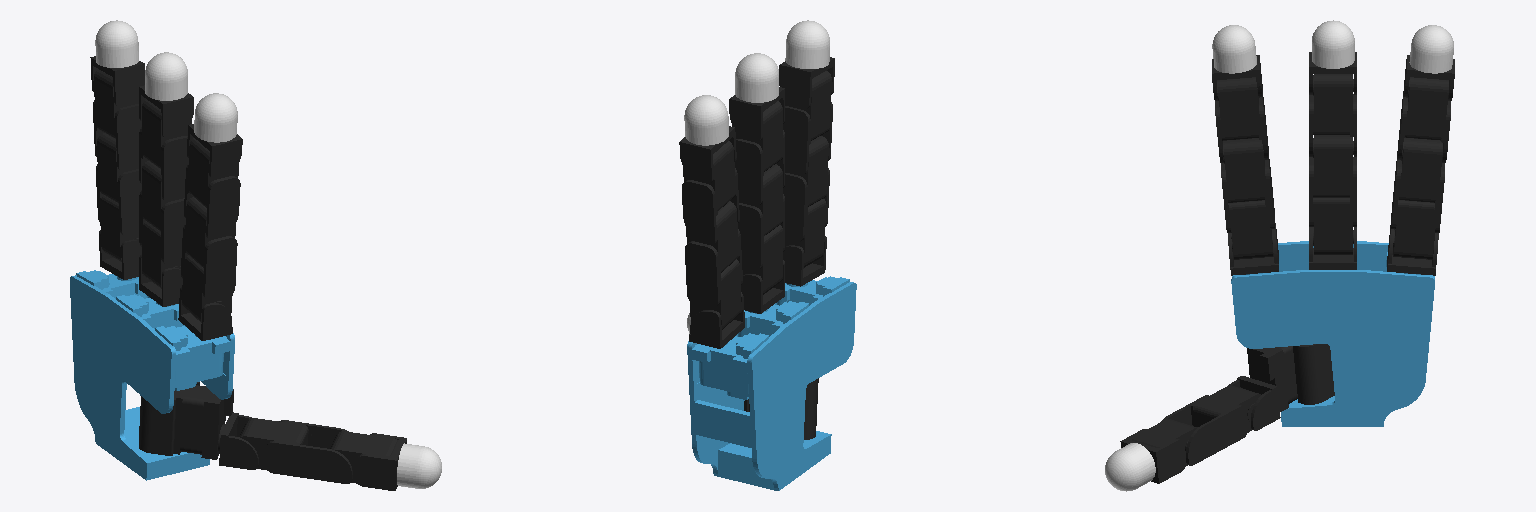
robot.urdf — allegro_hand_left:
<?xml version='1.0' encoding='utf-8'?>
<robot name="allegro_hand_left">

	<!-- Base link -->
	<link name="hand_root">
		<origin xyz="0 0 0" />
		<inertial>
			<origin xyz="0 0 0" />
			<mass value="0.1" />
			<inertia ixx="0.01" ixy="0.0" ixz="0.0" iyy="0.01" iyz="0.0" izz="0.01" />
		</inertial>
	</link>
	<joint name="root_to_base" type="fixed">
		<parent link="hand_root" />
		<child link="palm_link" />
		<origin xyz="0 0 0.095" />
	</joint>
	<!-- PALM -->
	<link name="palm_link">
		<visual>
			<origin rpy="-1.57079632679 0 0" />
			<geometry>
				<mesh filename="meshes/base_link_left.obj" />
			</geometry>
		</visual>

		<!-- <collision>
			<origin rpy="-1.57079632679 0 0" />
			<geometry>
				<mesh filename="meshes/base_link_left.obj"/>
			</geometry>
		</collision> -->

		<!-- <collision>
			<origin rpy="0 0 0" xyz="-0.009300 0 -0.0475" />
			<geometry>
				<box size="0.0407 0.1125 0.093" />
			</geometry>
		</collision> -->

		<collision>
			<origin rpy="0 0 0" xyz="-0.009300 0.015 -0.0475" />
			<geometry>
				<box size="0.0407 0.0785 0.093" />
			</geometry>
		</collision>

		<inertial>
			<origin rpy="0 0 0" xyz="0 0 0" />
			<mass value="0.4154" />
			<inertia ixx="0.00208916" ixy="-3.63457e-06" ixz="0.000223277" iyy="0.00182848" iyz="-1.75634e-05" izz="0.000482459" />
		</inertial>
	</link>
	<!-- Ring finger -->
	<link name="ring_0">
		<visual>
			<geometry>
				<mesh filename="meshes/link_0.0.obj" />
			</geometry>
			<material name="black" />
		</visual>
		<collision>
			<geometry>
				<!-- <box size="0.0196 0.0275 0.0164"/> -->
				<mesh filename="meshes/link_0.0.obj" />
			</geometry>
			<!-- <origin rpy="0 0 0" xyz="0 0 0.0082" /> -->
		</collision>
		<inertial>
			<mass value="0.0119" />
			<origin rpy="0 0 0" xyz="0 0 0" />
			<!-- <inertia ixx="1.95377e-06" ixy="3.03372e-09" ixz="8.92323e-08" iyy="1.17908e-06" iyz="-3.7069e-08" izz="1.49673e-06" /> -->
			<inertia ixx="1.95377e-03" ixy="3.03372e-06" ixz="8.92323e-05" iyy="1.17908e-03" iyz="-3.7069e-05" izz="1.49673e-03" />
		</inertial>
	</link>
	<joint name="joint_ring_0" type="revolute">
		<axis xyz="0 0 1" />
		<limit effort="0.7" lower="-0.47" upper="0.47" velocity="7" />
		<parent link="palm_link" />
		<child link="ring_0" />
		<origin rpy="-0.08726646255 0 0" xyz="0 0.0435 -0.001542" />
		<!-- <dynamics damping="1.5e-2" friction="10"/> -->
	</joint>
	<link name="ring_1">
		<visual>
			<geometry>
				<mesh filename="meshes/link_1.0.obj" />
			</geometry>
			<material name="black" />
		</visual>
		<collision>
			<geometry>
				<!-- <box size="0.0196 0.0275 0.054"/> -->
				<mesh filename="meshes/link_1.0.obj" />
			</geometry>
			<!-- <origin rpy="0 0 0" xyz="0 0 0.027" /> -->
		</collision>
		<inertial>
			<mass value="0.065" />
			<origin rpy="0 0 0" xyz="0 0 0" />
			<!-- <inertia ixx="7.19218e-05" ixy="0" ixz="0" iyy="7.4377e-05" iyz="7.32186e-07" izz="5.40622e-06" /> -->
			<inertia ixx="7.19218e-02" ixy="0" ixz="0" iyy="7.4377e-02" iyz="7.32186e-04" izz="5.40622e-03" />
		</inertial>
	</link>
	<joint name="joint_ring_1" type="revolute">
		<limit effort="0.7" lower="-0.196" upper="1.61" velocity="7" />
		<axis xyz="0 1 0" />
		<parent link="ring_0" />
		<child link="ring_1" />
		<origin xyz="0 0 0.0164" />
		<!-- <dynamics damping="1.5e-2" friction="5"/> -->
	</joint>
	<link name="ring_2">
		<visual>
			<geometry>
				<mesh filename="meshes/link_2.0.obj" />
			</geometry>
			<material name="black" />
		</visual>
		<collision>
			<geometry>
				<mesh filename="meshes/link_2.0.obj" />
				<!-- <box size="0.0196 0.0275 0.0384"/> -->
			</geometry>
			<!-- <origin rpy="0 0 0" xyz="0 0 0.0192" /> -->
		</collision>
		<inertial>
			<mass value="0.0355" />
			<origin rpy="0 0 0" xyz="0 0 0" />
			<!-- <inertia ixx="3.16925e-05" ixy="1.07094e-09" ixz="-4.91273e-09" iyy="3.10516e-05" iyz="3.87549e-08" izz="3.20319e-06" /> -->
			<inertia ixx="3.16925e-02" ixy="1.07094e-06" ixz="-4.91273e-06" iyy="3.10516e-02" iyz="3.87549e-05" izz="3.20319e-03" />
		</inertial>
	</link>
	<joint name="joint_ring_2" type="revolute">
		<axis xyz="0 1 0" />
		<limit effort="0.7" lower="-0.174" upper="1.709" velocity="7" />
		<parent link="ring_1" />
		<child link="ring_2" />
		<origin xyz="0 0 0.054" />
		<!-- <dynamics damping="1.5e-2" friction="10"/> -->
	</joint>
	<link name="ring_3">
		<visual>
			<geometry>
				<mesh filename="meshes/link_3.0.obj" />
			</geometry>
			<material name="black" />
		</visual>
		<collision>
			<geometry>
				<!-- <box size="0.0196 0.0275 0.0267"/> -->
				<mesh filename="meshes/link_3.0.obj" />
			</geometry>
			<!-- <origin rpy="0 0 0" xyz="0 0 0.01335" /> -->
		</collision>
		<inertial>
			<mass value="0.0096" />
			<origin rpy="0 0 0" xyz="0 0 0" />
			<!-- <inertia ixx="2.13975e-06" ixy="1.59554e-09" ixz="-7.47528e-09" iyy="1.52036e-06" iyz="-9.89336e-09" izz="1.20271e-06" /> -->
			<inertia ixx="2.13975e-03" ixy="1.59554e-06" ixz="-7.47528e-06" iyy="1.52036e-03" iyz="-9.89336e-06" izz="1.20271e-03" />
		</inertial>
	</link>
	<joint name="joint_ring_3" type="revolute">
		<axis xyz="0 1 0" />
		<limit effort="0.7" lower="-0.227" upper="1.618" velocity="7" />
		<parent link="ring_2" />
		<child link="ring_3" />
		<origin xyz="0 0 0.0384" />
		<!-- <dynamics damping="1.5e-2" friction="12"/> -->
	</joint>
	<link name="ring_tip">
		<visual>
			<geometry>
				<mesh filename="meshes/link_3.0_tip.obj" />
			</geometry>
			<material name="white">
				<color rgba=".9 .9 .9 1" />
			</material>
		</visual>
		<collision>
			<geometry>
				<sphere radius="0.012" />
			</geometry>
		</collision>
		<inertial>
			<mass value="0.0168" />
			<origin rpy="0 0 0" xyz="0 0 0" />
			<!-- <inertia ixx="1.19599e-05" ixy="0" ixz="0" iyy="1.19598e-05" iyz="0" izz="1.10345e-06" /> -->
			<inertia ixx="1.19599e-02" ixy="0" ixz="0" iyy="1.19598e-02" iyz="0" izz="1.10345e-03" />
		</inertial>
	</link>
	<joint name="joint_ring_tip" type="fixed">
		<parent link="ring_3" />
		<child link="ring_tip" />
		<origin rpy="0 0 0" xyz="0 0 0.0267" />
	</joint>

	<!-- Middle finger -->
	<link name="middle_0">
		<visual>
			<geometry>
				<mesh filename="meshes/link_0.0.obj" />
			</geometry>
			<material name="black" />
		</visual>
		<collision>
			<geometry>
				<!-- <box size="0.0196 0.0275 0.0164"/> -->
				<mesh filename="meshes/link_0.0.obj" />
			</geometry>
			<!-- <origin rpy="0 0 0" xyz="0 0 0.0082" /> -->
		</collision>
		<inertial>
			<mass value="0.0119" />
			<origin rpy="0 0 0" xyz="0 0 0" />
			<!-- <inertia ixx="1.95377e-06" ixy="3.03372e-09" ixz="8.92323e-08" iyy="1.17908e-06" iyz="-3.7069e-08" izz="1.49673e-06" /> -->
			<inertia ixx="1.95377e-03" ixy="3.03372e-06" ixz="8.92323e-05" iyy="1.17908e-03" iyz="-3.7069e-05" izz="1.49673e-03" />
		</inertial>
	</link>
	<joint name="joint_middle_0" type="revolute">
		<axis xyz="0 0 1" />
		<limit effort="0.7" lower="-0.47" upper="0.47" velocity="7" />
		<parent link="palm_link" />
		<child link="middle_0" />
		<origin rpy="0.0 0 0" xyz="0 0 0.0007" />
		<!-- <dynamics damping="1.5e-2" friction="10"/> -->
	</joint>
	<link name="middle_1">
		<visual>
			<geometry>
				<mesh filename="meshes/link_1.0.obj" />
			</geometry>
			<material name="black" />
		</visual>
		<collision>
			<geometry>
				<!-- <box size="0.0196 0.0275 0.054"/> -->
				<mesh filename="meshes/link_1.0.obj" />
			</geometry>
			<!-- <origin rpy="0 0 0" xyz="0 0 0.027" /> -->
		</collision>
		<inertial>
			<mass value="0.065" />
			<origin rpy="0 0 0" xyz="0 0 0" />
			<!-- <inertia ixx="7.19218e-05" ixy="0" ixz="0" iyy="7.4377e-05" iyz="7.32186e-07" izz="5.40622e-06" /> -->
			<inertia ixx="7.19218e-02" ixy="0" ixz="0" iyy="7.4377e-02" iyz="7.32186e-04" izz="5.40622e-03" />
		</inertial>
	</link>
	<joint name="joint_middle_1" type="revolute">
		<limit effort="0.7" lower="-0.196" upper="1.61" velocity="7" />
		<axis xyz="0 1 0" />
		<parent link="middle_0" />
		<child link="middle_1" />
		<origin xyz="0 0 0.0164" />
		<!-- <dynamics damping="1.5e-2" friction="5"/> -->
	</joint>
	<link name="middle_2">
		<visual>
			<geometry>
				<mesh filename="meshes/link_2.0.obj" />
			</geometry>
			<material name="black" />
		</visual>
		<collision>
			<geometry>
				<!-- <box size="0.0196 0.0275 0.0384"/> -->
				<mesh filename="meshes/link_2.0.obj" />
			</geometry>
			<!-- <origin rpy="0 0 0" xyz="0 0 0.0192" /> -->
		</collision>
		<inertial>
			<mass value="0.0355" />
			<origin rpy="0 0 0" xyz="0 0 0" />
			<!-- <inertia ixx="3.16925e-05" ixy="1.07094e-09" ixz="-4.91273e-09" iyy="3.10516e-05" iyz="3.87549e-08" izz="3.20319e-06" /> -->
			<inertia ixx="3.16925e-02" ixy="1.07094e-06" ixz="-4.91273e-06" iyy="3.10516e-02" iyz="3.87549e-05" izz="3.20319e-03" />
		</inertial>
	</link>
	<joint name="joint_middle_2" type="revolute">
		<axis xyz="0 1 0" />
		<limit effort="0.7" lower="-0.174" upper="1.709" velocity="7" />
		<parent link="middle_1" />
		<child link="middle_2" />
		<origin xyz="0 0 0.054" />
		<!-- <dynamics damping="1.5e-2" friction="10"/> -->
	</joint>
	<link name="middle_3">
		<visual>
			<geometry>
				<mesh filename="meshes/link_3.0.obj" />
			</geometry>
			<material name="black" />
		</visual>
		<collision>
			<geometry>
				<!-- <box size="0.0196 0.0275 0.0267"/> -->
				<mesh filename="meshes/link_3.0.obj" />
			</geometry>
			<!-- <origin rpy="0 0 0" xyz="0 0 0.01335" /> -->
		</collision>
		<inertial>
			<mass value="0.0096" />
			<origin rpy="0 0 0" xyz="0 0 0" />
			<!-- <inertia ixx="2.13975e-06" ixy="1.59554e-09" ixz="-7.47528e-09" iyy="1.52036e-06" iyz="-9.89336e-09" izz="1.20271e-06" /> -->
			<inertia ixx="2.13975e-03" ixy="1.59554e-06" ixz="-7.47528e-06" iyy="1.52036e-03" iyz="-9.89336e-06" izz="1.20271e-03" />
		</inertial>
	</link>
	<joint name="joint_middle_3" type="revolute">
		<axis xyz="0 1 0" />
		<limit effort="0.7" lower="-0.227" upper="1.618" velocity="7" />
		<parent link="middle_2" />
		<child link="middle_3" />
		<origin xyz="0 0 0.0384" />
		<!-- <dynamics damping="1.5e-2" friction="12"/> -->
	</joint>
	<link name="middle_tip">
		<visual>
			<geometry>
				<mesh filename="meshes/link_3.0_tip.obj" />
			</geometry>
			<material name="white">
				<color rgba=".9 .9 .9 1" />
			</material>
		</visual>
		<collision>
			<geometry>
				<sphere radius="0.012" />
			</geometry>
		</collision>
		<inertial>
			<mass value="0.0168" />
			<origin rpy="0 0 0" xyz="0 0 0" />
			<!-- <inertia ixx="1.19599e-05" ixy="0" ixz="0" iyy="1.19598e-05" iyz="0" izz="1.10345e-06" /> -->
			<inertia ixx="1.19599e-02" ixy="0" ixz="0" iyy="1.19598e-02" iyz="0" izz="1.10345e-03" />
		</inertial>
	</link>
	<joint name="joint_middle_tip" type="fixed">
		<parent link="middle_3" />
		<child link="middle_tip" />
		<origin rpy="0 0 0" xyz="0 0 0.0267" />
	</joint>

	<!-- Index -->
	<link name="index_0">
		<visual>
			<geometry>
				<mesh filename="meshes/link_0.0.obj" />
			</geometry>
			<material name="black" />
		</visual>
		<collision>
			<geometry>
				<!-- <box size="0.0196 0.0275 0.0164"/> -->
				<mesh filename="meshes/link_0.0.obj" />
			</geometry>
			<!-- <origin rpy="0 0 0" xyz="0 0 0.0082" /> -->
		</collision>
		<inertial>
			<mass value="0.0119" />
			<origin rpy="0 0 0" xyz="0 0 0" />
			<!-- <inertia ixx="1.95377e-06" ixy="3.03372e-09" ixz="8.92323e-08" iyy="1.17908e-06" iyz="-3.7069e-08" izz="1.49673e-06" /> -->
			<inertia ixx="1.95377e-03" ixy="3.03372e-06" ixz="8.92323e-05" iyy="1.17908e-03" iyz="-3.7069e-05" izz="1.49673e-03" />
		</inertial>
	</link>
	<joint name="joint_index_0" type="revolute">
		<axis xyz="0 0 1" />
		<limit effort="0.7" lower="-0.47" upper="0.47" velocity="7" />
		<parent link="palm_link" />
		<child link="index_0" />
		<origin rpy="0.08726646255 0 0" xyz="0 -0.0435 -0.001542" />
		<!-- <dynamics damping="1.5e-2" friction="10"/> -->
	</joint>
	<link name="index_1">
		<visual>
			<geometry>
				<mesh filename="meshes/link_1.0.obj" />
			</geometry>
			<material name="black" />
		</visual>
		<collision>
			<geometry>
				<!-- <box size="0.0196 0.0275 0.054"/> -->
				<mesh filename="meshes/link_1.0.obj" />
			</geometry>
			<!-- <origin rpy="0 0 0" xyz="0 0 0.027" /> -->
		</collision>
		<inertial>
			<mass value="0.065" />
			<origin rpy="0 0 0" xyz="0 0 0" />
			<!-- <inertia ixx="7.19218e-05" ixy="0" ixz="0" iyy="7.4377e-05" iyz="7.32186e-07" izz="5.40622e-06" /> -->
			<inertia ixx="7.19218e-02" ixy="0" ixz="0" iyy="7.4377e-02" iyz="7.32186e-04" izz="5.40622e-03" />
		</inertial>
	</link>
	<joint name="joint_index_1" type="revolute">
		<limit effort="0.7" lower="-0.196" upper="1.61" velocity="7" />
		<axis xyz="0 1 0" />
		<parent link="index_0" />
		<child link="index_1" />
		<origin xyz="0 0 0.0164" />
		<!-- <dynamics damping="1.5e-2" friction="5"/> -->
	</joint>
	<link name="index_2">
		<visual>
			<geometry>
				<mesh filename="meshes/link_2.0.obj" />
			</geometry>
			<material name="black" />
		</visual>
		<collision>
			<geometry>
				<!-- <box size="0.0196 0.0275 0.0384"/> -->
				<mesh filename="meshes/link_2.0.obj" />
			</geometry>
			<!-- <origin rpy="0 0 0" xyz="0 0 0.0192" /> -->
		</collision>
		<inertial>
			<mass value="0.0355" />
			<origin rpy="0 0 0" xyz="0 0 0" />
			<!-- <inertia ixx="3.16925e-05" ixy="1.07094e-09" ixz="-4.91273e-09" iyy="3.10516e-05" iyz="3.87549e-08" izz="3.20319e-06" /> -->
			<inertia ixx="3.16925e-02" ixy="1.07094e-06" ixz="-4.91273e-06" iyy="3.10516e-02" iyz="3.87549e-05" izz="3.20319e-03" />
		</inertial>
	</link>
	<joint name="joint_index_2" type="revolute">
		<axis xyz="0 1 0" />
		<limit effort="0.7" lower="-0.174" upper="1.709" velocity="7" />
		<parent link="index_1" />
		<child link="index_2" />
		<origin xyz="0 0 0.054" />
		<!-- <dynamics damping="1.5e-2" friction="10"/> -->
	</joint>
	<link name="index_3">
		<visual>
			<geometry>
				<mesh filename="meshes/link_3.0.obj" />
			</geometry>
			<material name="black" />
		</visual>
		<collision>
			<geometry>
				<!-- <box size="0.0196 0.0275 0.0267"/> -->
				<mesh filename="meshes/link_3.0.obj" />
			</geometry>
			<!-- <origin rpy="0 0 0" xyz="0 0 0.01335" /> -->
		</collision>
		<inertial>
			<mass value="0.0096" />
			<origin rpy="0 0 0" xyz="0 0 0" />
			<!-- <inertia ixx="2.13975e-06" ixy="1.59554e-09" ixz="-7.47528e-09" iyy="1.52036e-06" iyz="-9.89336e-09" izz="1.20271e-06" /> -->
			<inertia ixx="2.13975e-03" ixy="1.59554e-06" ixz="-7.47528e-06" iyy="1.52036e-03" iyz="-9.89336e-06" izz="1.20271e-03" />
		</inertial>
	</link>
	<joint name="joint_index_3" type="revolute">
		<axis xyz="0 1 0" />
		<limit effort="0.7" lower="-0.227" upper="1.618" velocity="7" />
		<parent link="index_2" />
		<child link="index_3" />
		<origin xyz="0 0 0.0384" />
		<!-- <dynamics damping="1.5e-2" friction="12"/> -->
	</joint>
	<link name="index_tip">
		<visual>
			<geometry>
				<mesh filename="meshes/link_3.0_tip.obj" />
			</geometry>
			<material name="white">
				<color rgba=".9 .9 .9 1" />
			</material>
		</visual>
		<collision>
			<geometry>
				<sphere radius="0.012" />
			</geometry>
		</collision>
		<inertial>
			<mass value="0.0168" />
			<origin rpy="0 0 0" xyz="0 0 0" />
			<!-- <inertia ixx="1.19599e-05" ixy="0" ixz="0" iyy="1.19598e-05" iyz="0" izz="1.10345e-06" /> -->
			<inertia ixx="1.19599e-02" ixy="0" ixz="0" iyy="1.19598e-02" iyz="0" izz="1.10345e-03" />
		</inertial>
	</link>
	<joint name="joint_index_tip" type="fixed">
		<parent link="index_3" />
		<child link="index_tip" />
		<origin rpy="0 0 0" xyz="0 0 0.0267" />
	</joint>

	<!-- Thumb -->
	<link name="thumb_0">
		<visual>
			<origin rpy="3.1415926518 0 0" xyz="0 0 0"/>
			<geometry>
				<mesh filename="meshes/link_12.0_left.obj" />
			</geometry>
			<material name="black">
				<color rgba=".2 .2 .2 1" />
			</material>
		</visual>
		<collision>
			<origin rpy="3.1415926518 0 0" xyz="0 0 0"/>
			<!-- <origin rpy="0 0 0" xyz="-0.0179 -0.009 0.0145" /> -->
			<geometry>
				<!-- <box size="0.0358 0.034 0.0455"/> -->
				<mesh filename="meshes/link_12.0_left.obj" />
			</geometry>
		</collision>
		<inertial>
			<mass value="0.0176" />
			<origin rpy="0 0 0" xyz="0 0 0" />
			<!-- <inertia ixx="8.13883e-06" ixy="2.55226e-06" ixz="3.89933e-06" iyy="1.31421e-05" iyz="-1.46267e-06" izz="1.00171e-05" /> -->
			<inertia ixx="8.13883e-03" ixy="2.55226e-03" ixz="3.89933e-03" iyy="1.31421e-02" iyz="-1.46267e-03" izz="1.00171e-02" />
		</inertial>
	</link>
	<!-- Thumb  -->
	<joint name="joint_thumb_0" type="revolute">
		<axis xyz="1 0 0" />
		<limit effort="0.7" lower="0.263" upper="1.396" velocity="7" />
		<parent link="palm_link" />
		<child link="thumb_0" />
		<origin rpy="0 -1.65806278845 1.5707963259" xyz="-0.0182 -0.019333 -0.045987" />
		<!-- <dynamics damping="1.5e-2" friction="10"/> -->
	</joint>
	<link name="thumb_1">
		<visual>
			<geometry>
				<mesh filename="meshes/link_13.0.obj" />
			</geometry>
			<material name="black">
				<color rgba=".2 .2 .2 1" />
			</material>
		</visual>
		<collision>
			<geometry>
				<!-- <box size="0.0196 0.0275 0.0177"/> -->
				<mesh filename="meshes/link_13.0.obj" />
			</geometry>
			<!-- <origin rpy="0 0 0" xyz="0 0 0.00885" /> -->
		</collision>
		<inertial>
			<mass value="0.0119" />
			<origin rpy="0 0 0" xyz="0 0 0" />
			<!-- <inertia ixx="1.9263e-06" ixy="3.05433e-09" ixz="8.86582e-08" iyy="1.15276e-06" iyz="-3.64521e-08" izz="1.4957e-06" /> -->
			<inertia ixx="1.9263e-03" ixy="3.05433e-06" ixz="8.86582e-05" iyy="1.15276e-03" iyz="-3.64521e-05" izz="1.4957e-03" />
		</inertial>
	</link>
	<joint name="joint_thumb_1" type="revolute">
		<axis xyz="0 0 -1" />
		<limit effort="0.7" lower="-0.105" upper="1.163" velocity="7" />
		<parent link="thumb_0" />
		<child link="thumb_1" />
		<origin xyz="-0.027 -0.005 0.0399" />
		<!-- <dynamics damping="1.5e-2" friction="5"/> -->
	</joint>
	<link name="thumb_2">
		<visual>
			<geometry>
				<mesh filename="meshes/link_14.0.obj" />
			</geometry>
			<material name="black">
				<color rgba=".2 .2 .2 1" />
			</material>
		</visual>
		<collision>
			<geometry>
				<!-- <box size="0.0196 0.0275 0.0514"/> -->
				<mesh filename="meshes/link_14.0.obj" />
			</geometry>
			<!-- <origin rpy="0 0 0" xyz="0 0 0.0257" /> -->
		</collision>
		<inertial>
			<mass value="0.038" />
			<origin rpy="0 0 0" xyz="0 0 0" />
			<!-- <inertia ixx="3.67044e-05" ixy="1.02277e-09" ixz="1.4854e-07" iyy="3.54042e-05" iyz="-3.67203e-08" izz="3.63275e-06" /> -->
			<inertia ixx="3.67044e-02" ixy="1.02277e-06" ixz="1.4854e-04" iyy="3.54042e-02" iyz="-3.67203e-05" izz="3.63275e-03" />
		</inertial>
	</link>
	<joint name="joint_thumb_2" type="revolute">
		<axis xyz="0 1 0" />
		<limit effort="0.7" lower="-0.189" upper="1.644" velocity="7" />
		<parent link="thumb_1" />
		<child link="thumb_2" />
		<origin xyz="0 0 0.0177" />
		<!-- <dynamics damping="1.5e-2" friction="10"/> -->
	</joint>
	<link name="thumb_3">
		<visual>
			<geometry>
				<mesh filename="meshes/link_15.0.obj" />
			</geometry>
			<material name="black">
			</material>
		</visual>
		<collision>
			<geometry>
				<!-- <box size="0.0196 0.0275 0.0423"/> -->
				<mesh filename="meshes/link_15.0.obj" />
			</geometry>
			<!-- <origin rpy="0 0 0" xyz="0 0 0.02115" /> -->
		</collision>
		<inertial>
			<mass value="0.0388" />
			<origin rpy="0 0 0" xyz="0 0 0" />
			<!-- <inertia ixx="4.30919e-05" ixy="0" ixz="0" iyy="3.85425e-05" iyz="-3.0146e-08" izz="1.72974e-05" /> -->
			<inertia ixx="4.30919e-02" ixy="0" ixz="0" iyy="3.85425e-02" iyz="-3.0146e-05" izz="1.72974e-02" />
		</inertial>
	</link>
	<joint name="joint_thumb_3" type="revolute">
		<axis xyz="0 1 0" />
		<limit effort="0.7" lower="-0.162" upper="1.719" velocity="7" />
		<parent link="thumb_2" />
		<child link="thumb_3" />
		<origin xyz="0 0 0.0514" />
		<!-- <dynamics damping="1.5e-2" friction="12"/> -->
	</joint>
	<link name="thumb_tip">
		<visual>
			<geometry>
				<mesh filename="meshes/link_15.0_tip.obj" />
			</geometry>
			<material name="white">
				<color rgba=".9 .9 .9 1" />
			</material>
		</visual>
		<collision>
			<geometry>
				<sphere radius="0.012" />
			</geometry>
		</collision>
		<inertial>
			<mass value="0.0168" />
			<origin rpy="0 0 0" xyz="0 0 0" />
			<!-- <inertia ixx="1.19599e-05" ixy="0" ixz="0" iyy="1.19598e-05" iyz="0" izz="1.10345e-06" /> -->
			<inertia ixx="1.19599e-02" ixy="0" ixz="0" iyy="1.19598e-02" iyz="0" izz="1.10345e-03" />
		</inertial>
	</link>
	<joint name="joint_thumb_tip" type="fixed">
		<parent link="thumb_3" />
		<child link="thumb_tip" />
		<origin rpy="0 0 0" xyz="0 0 0.0423" />
	</joint>

</robot>

--- Render facts (derived) ---
Views: 3 orthographic renders of the robot side by side, from view 1: azimuth 30°, elevation 25°; view 2: azimuth 150°, elevation 25°; view 3: azimuth 270°, elevation 25°.
Model allegro_hand_left with 22 links and 21 joints (16 revolute, 5 fixed), rooted at hand_root, posed joints at zero except 1 at the middle of their limits (joint_thumb_0 = 0.8295).
Visible links, largest first — view 1: palm_link, thumb_2, thumb_0, index_1, middle_1, ring_1, index_2, thumb_3, middle_2, ring_2, index_tip, middle_tip (+9 smaller); view 2: palm_link, ring_1, index_1, middle_1, ring_2, index_2, middle_2, ring_tip, middle_tip, index_tip, ring_0, index_3 (+5 smaller); view 3: palm_link, ring_1, index_1, middle_1, thumb_0, thumb_2, index_2, ring_2, middle_2, thumb_3, thumb_tip, index_tip (+9 smaller).
Link boxes in pixels (bbox=[...]): palm_link: bbox=[70, 270, 234, 480]; thumb_2: bbox=[240, 418, 352, 483]; thumb_0: bbox=[139, 382, 233, 459]; index_1: bbox=[181, 197, 237, 322]; middle_1: bbox=[139, 161, 185, 288]; ring_1: bbox=[96, 133, 141, 261]; index_2: bbox=[184, 138, 240, 239]; thumb_3: bbox=[330, 431, 406, 490]; middle_2: bbox=[139, 99, 191, 201]; ring_2: bbox=[93, 69, 141, 171]; index_tip: bbox=[194, 93, 237, 142]; middle_tip: bbox=[145, 52, 187, 100]; palm_link: bbox=[687, 276, 856, 490]; ring_1: bbox=[685, 201, 742, 329]; index_1: bbox=[783, 136, 829, 267]; middle_1: bbox=[738, 164, 784, 294]; ring_2: bbox=[682, 141, 739, 244]; index_2: bbox=[783, 71, 832, 174]; middle_2: bbox=[732, 101, 784, 205]; ring_tip: bbox=[684, 95, 728, 145]; middle_tip: bbox=[735, 53, 778, 102]; index_tip: bbox=[785, 20, 829, 68]; ring_0: bbox=[689, 292, 744, 348]; index_3: bbox=[779, 57, 834, 108]; palm_link: bbox=[1231, 241, 1434, 426]; ring_1: bbox=[1391, 138, 1444, 259]; index_1: bbox=[1221, 138, 1274, 259]; middle_1: bbox=[1309, 135, 1356, 254]; thumb_0: bbox=[1247, 344, 1334, 411]; thumb_2: bbox=[1161, 385, 1260, 465]; index_2: bbox=[1215, 77, 1268, 162]; ring_2: bbox=[1397, 77, 1450, 162]; middle_2: bbox=[1309, 74, 1356, 156]; thumb_3: bbox=[1120, 419, 1197, 483]; thumb_tip: bbox=[1105, 443, 1155, 491]; index_tip: bbox=[1212, 25, 1256, 73].
Bounding box of the posed robot: 0.1383 × 0.1948 × 0.2432 m (x, y, z).
21 mesh visuals loaded from 11 distinct referenced files (11 OBJ).